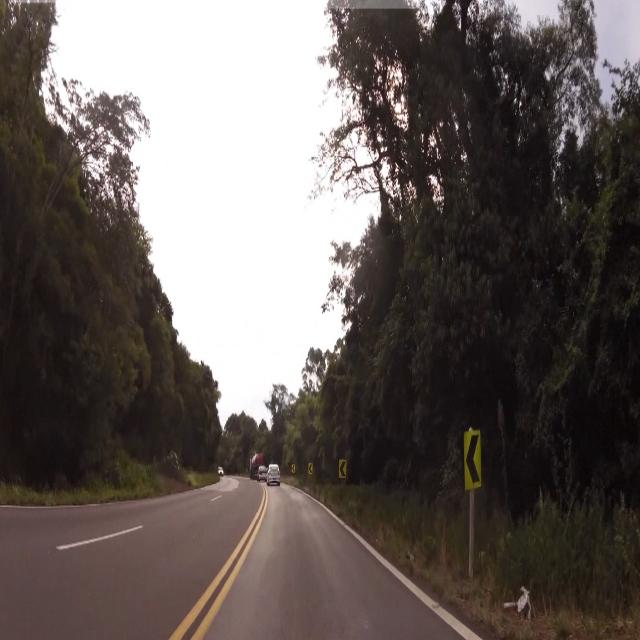Del: (462, 426, 482, 488)
